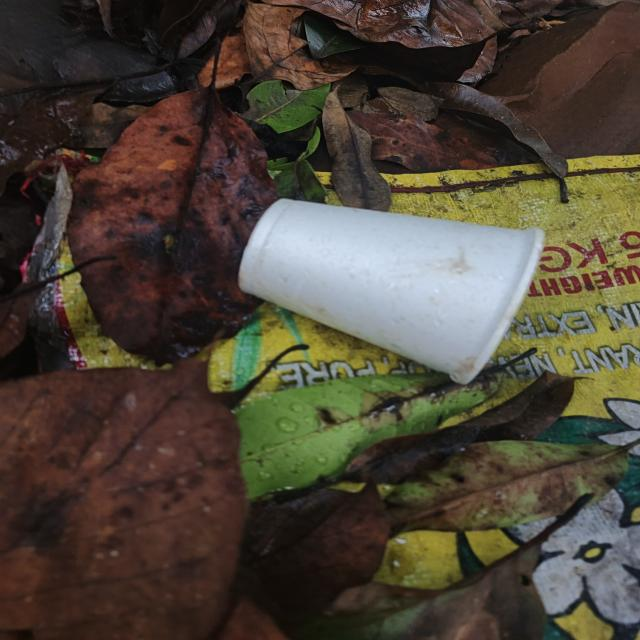plastic: (217, 188, 580, 394)
